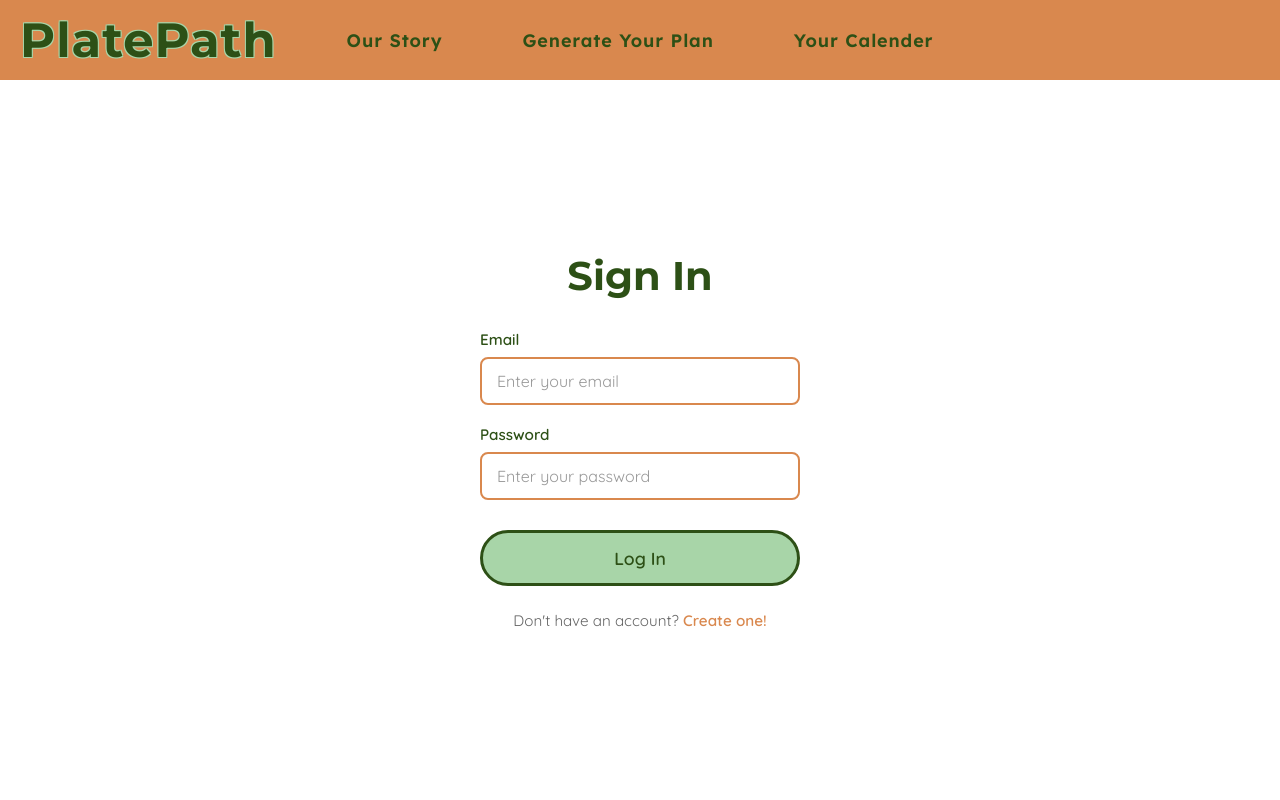
Test: Login - Accessibility Tests › Keyboard Navigation › should have clickable toggle link for switching modes
Click the text "Create one!". click: (725, 620)
box: [683, 610, 767, 630]
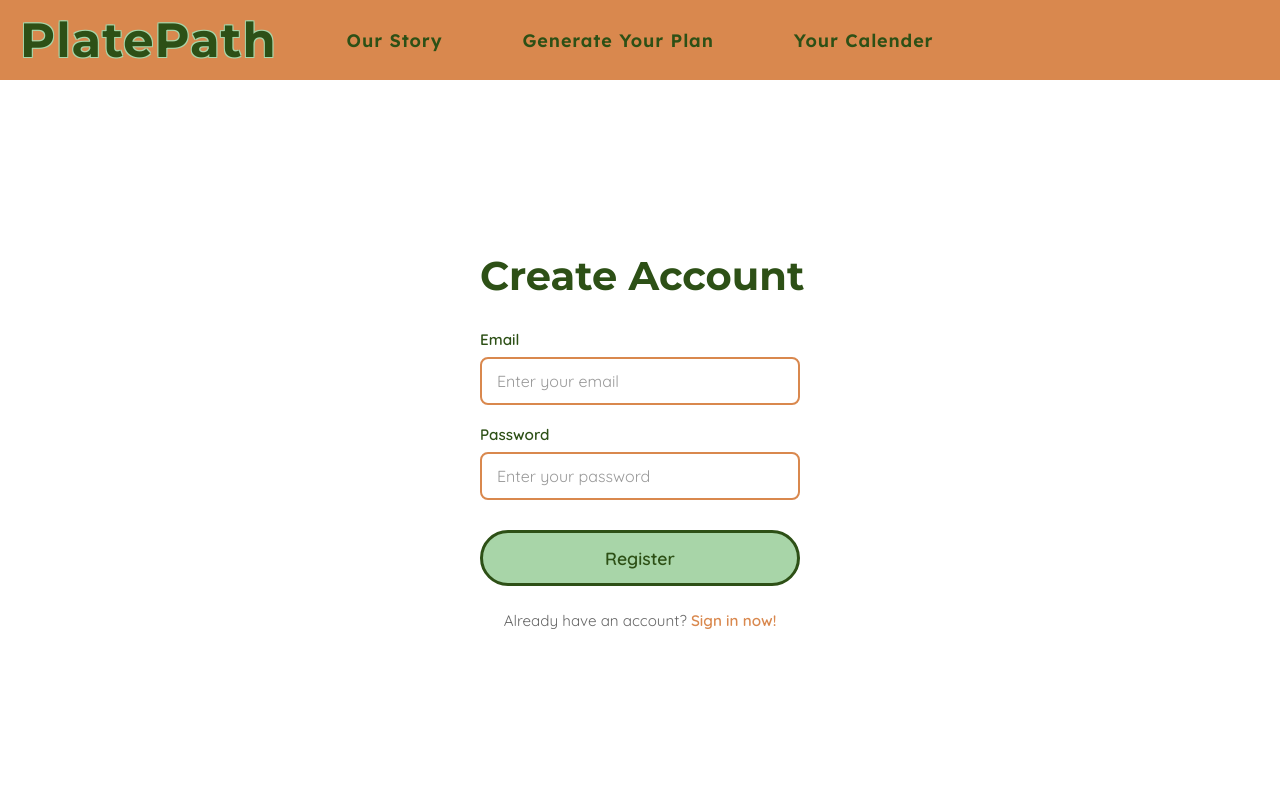
Result: the heading "Create Account" is shown at [480, 250, 800, 300]
